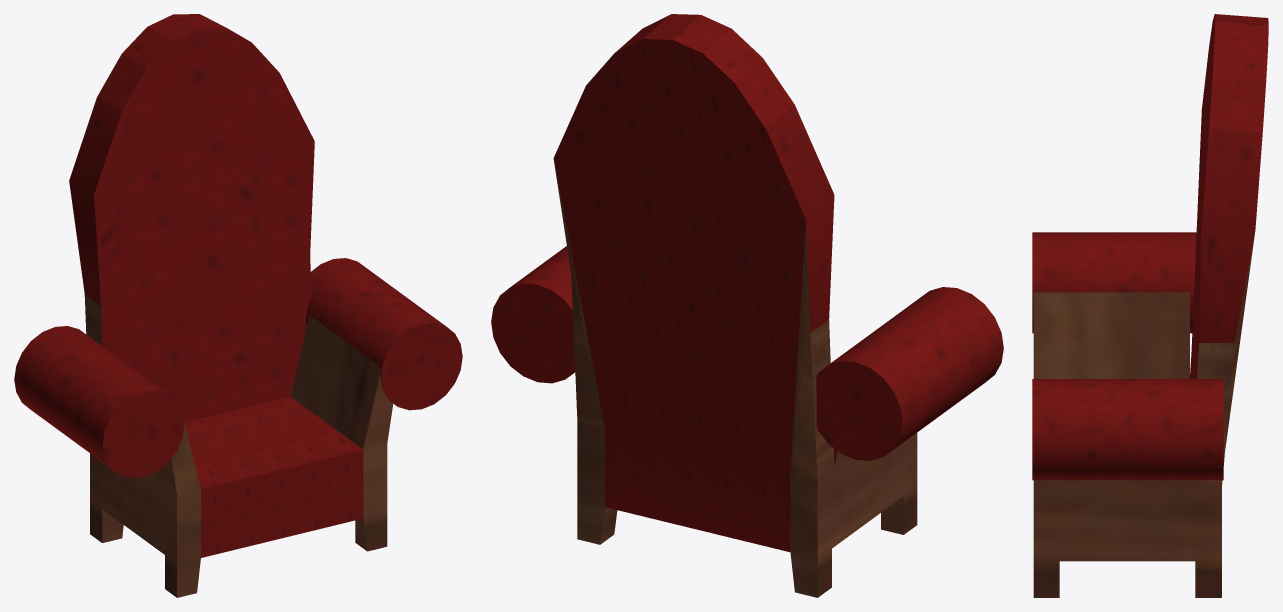
File: chairFBX.fbx
3 renders of one model, left to right at view 1: azimuth 30°, elevation 25°; view 2: azimuth 150°, elevation 25°; view 3: azimuth 270°, elevation 25°, orthographic. The views are drawn at different scales.
Parts seen in each view (by area): view 1: pCylinder3; view 2: pCylinder3; view 3: pCylinder3.
Boxes of the visible parts, bbox=[...] form: pCylinder3: bbox=[14, 14, 462, 597]; pCylinder3: bbox=[491, 14, 1003, 597]; pCylinder3: bbox=[1032, 14, 1268, 597].
Size of the model in its own units: 3.81 by 4.88 by 2.01.
